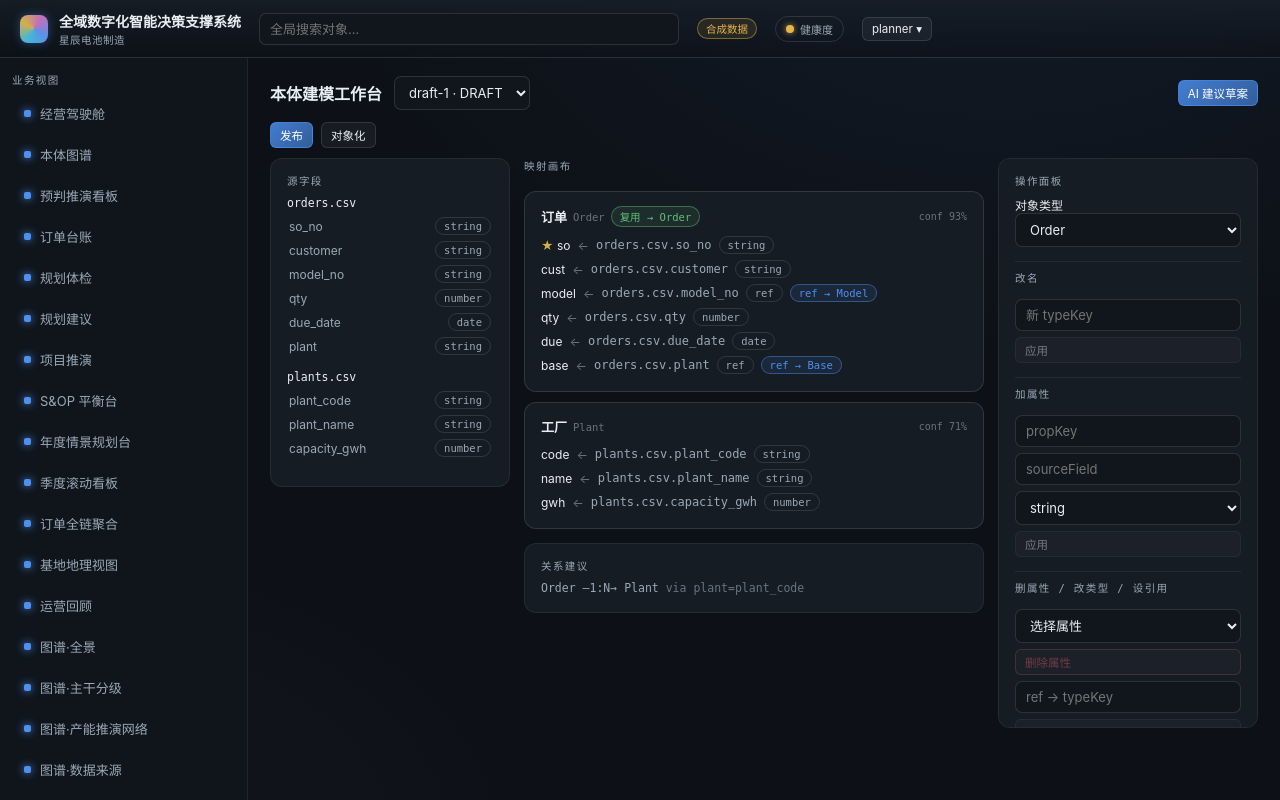
Test: F10 · 建模工作台 › PATCH 乐观更新与失败回滚；发布校验错误定位到卡片
Check: the element with test id "type-card-Order" is shown, box [524,191,984,392]
Check: the text with test id "map-existing-badge" shows "复用", box [620,211,641,223]
// 失败回滚：改名为 FAIL → 422 → 卡片标题恢复原 typeKey
Type "FAIL" into the field labelled "新 typeKey" at (1128, 315), box [1015,299,1241,331]
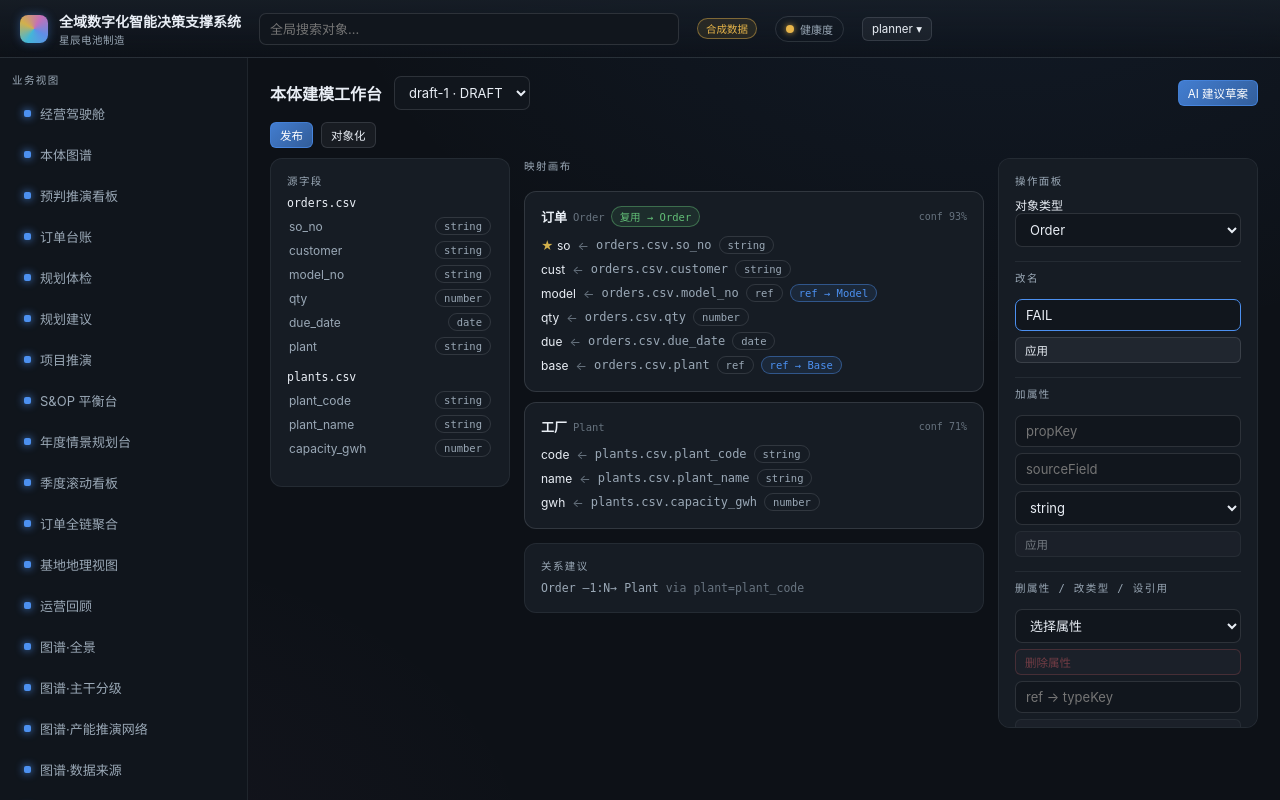
Click the button with test id "op-rename" at (1128, 350), box [1015,337,1241,363]
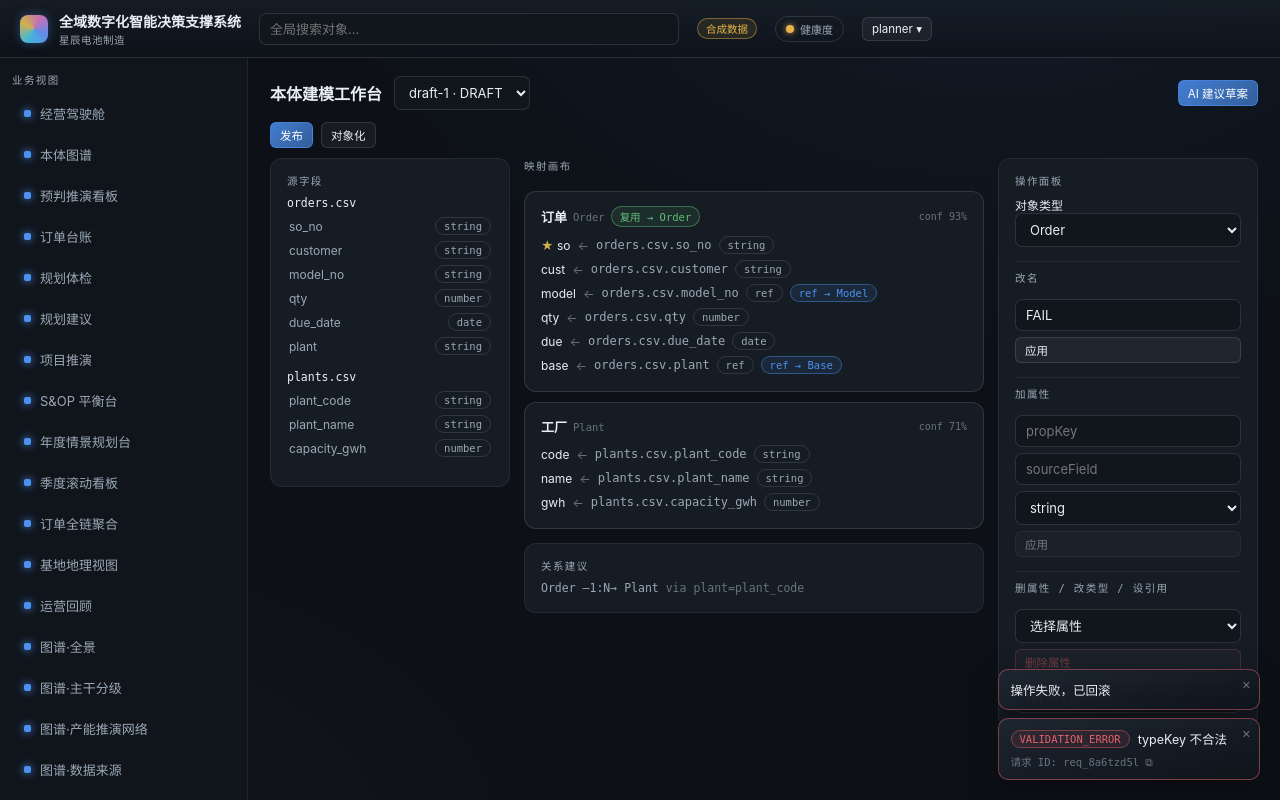
Check: the element with test id "type-card-Order" is shown, box [524,191,984,392]
Check: the text "操作失败，已回滚" is shown, box [1010,680,1110,699]
// 乐观更新成功路径：加属性立即出现在卡片上
Type "priority" into the field with placeholder "propKey" at (1128, 431), box [1015,415,1241,447]
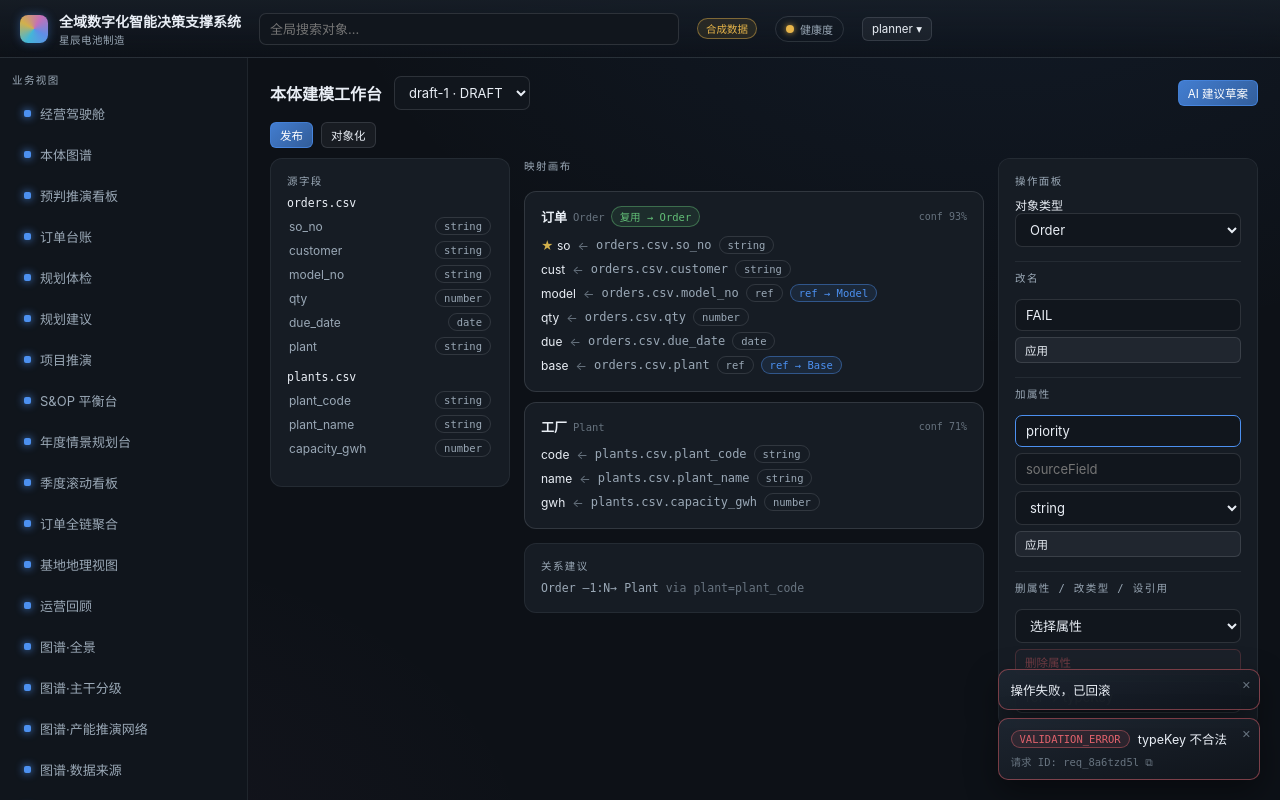
Type "prio" into the field named "新属性 sourceField" at (1128, 469), box [1015,453,1241,485]
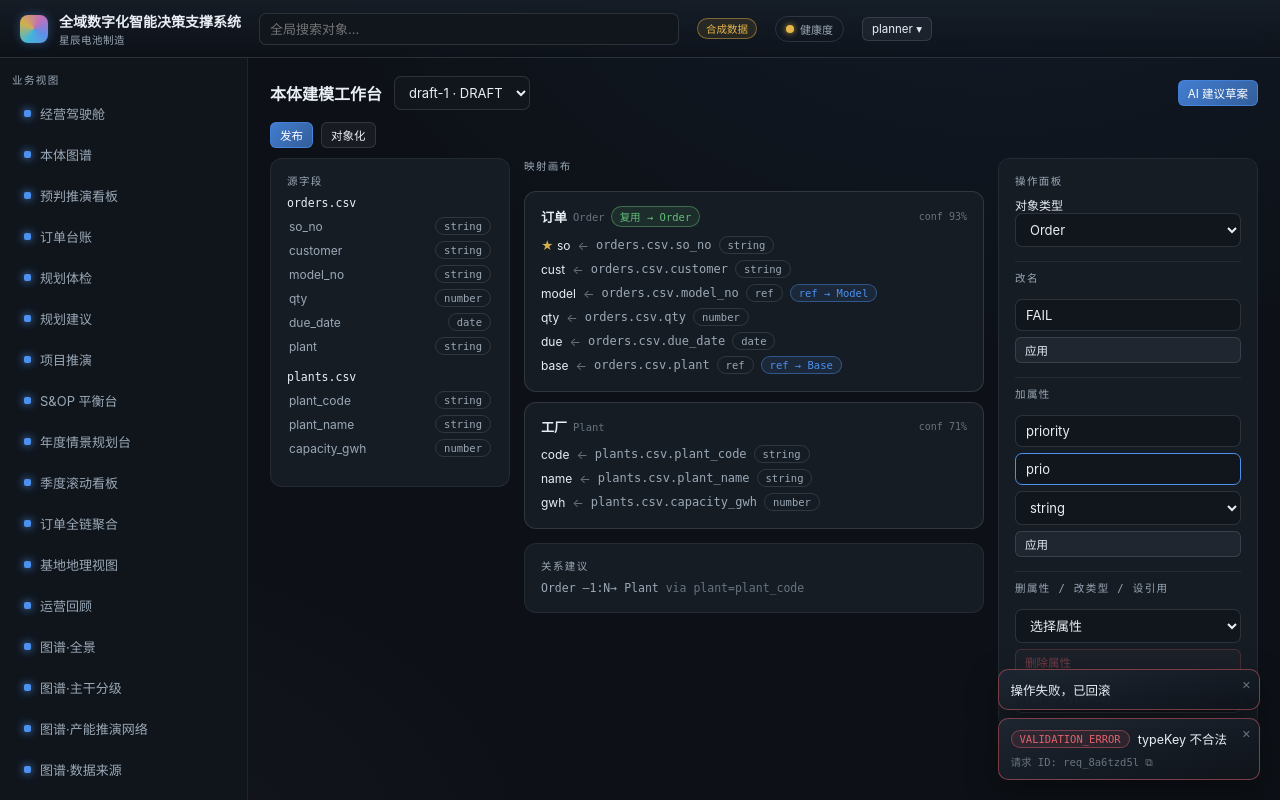
Click the button with test id "op-add-prop" at (1128, 544), box [1015,531,1241,557]
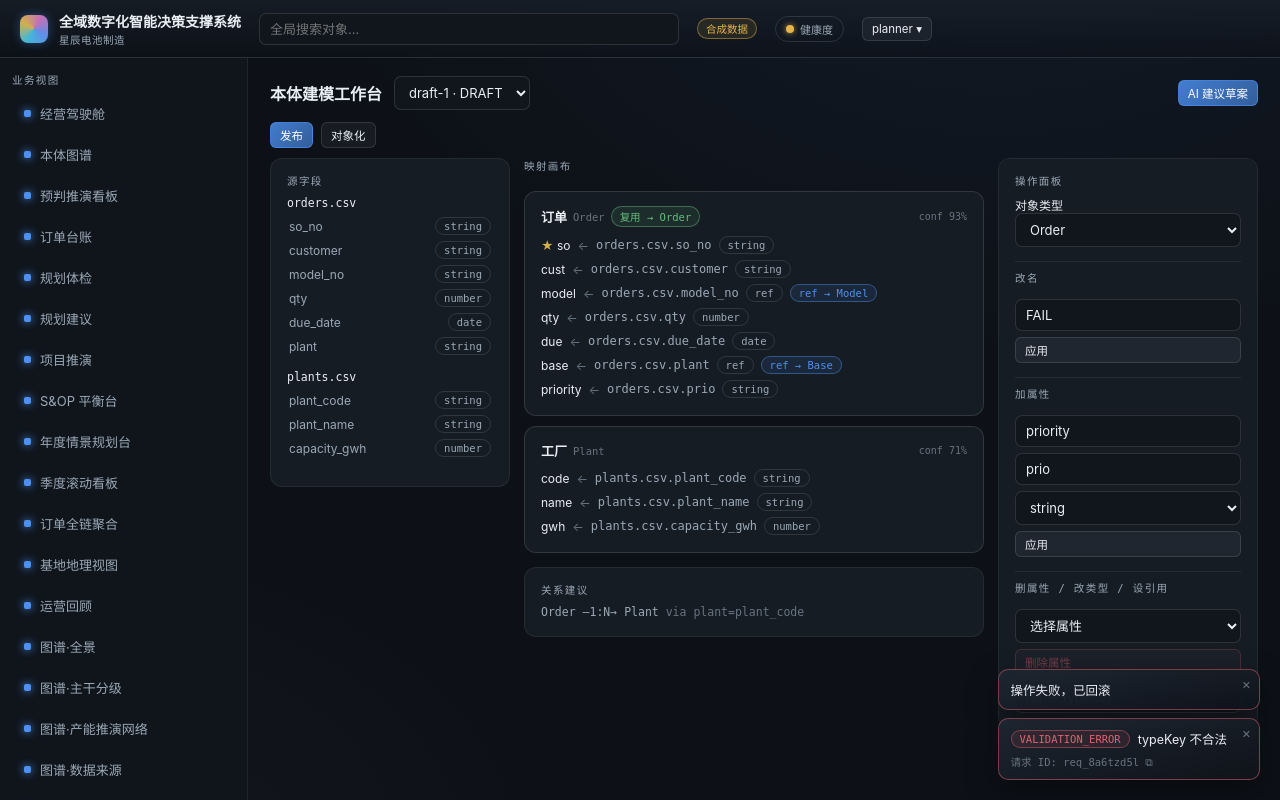
Check: the element with test id "prop-Order-priority" is shown, box [541,380,778,398]
// 发布校验：Plant 缺主键 → 错误内联定位到 Plant 卡
Click the button with test id "publish-draft" at (292, 135), box [270,122,313,148]
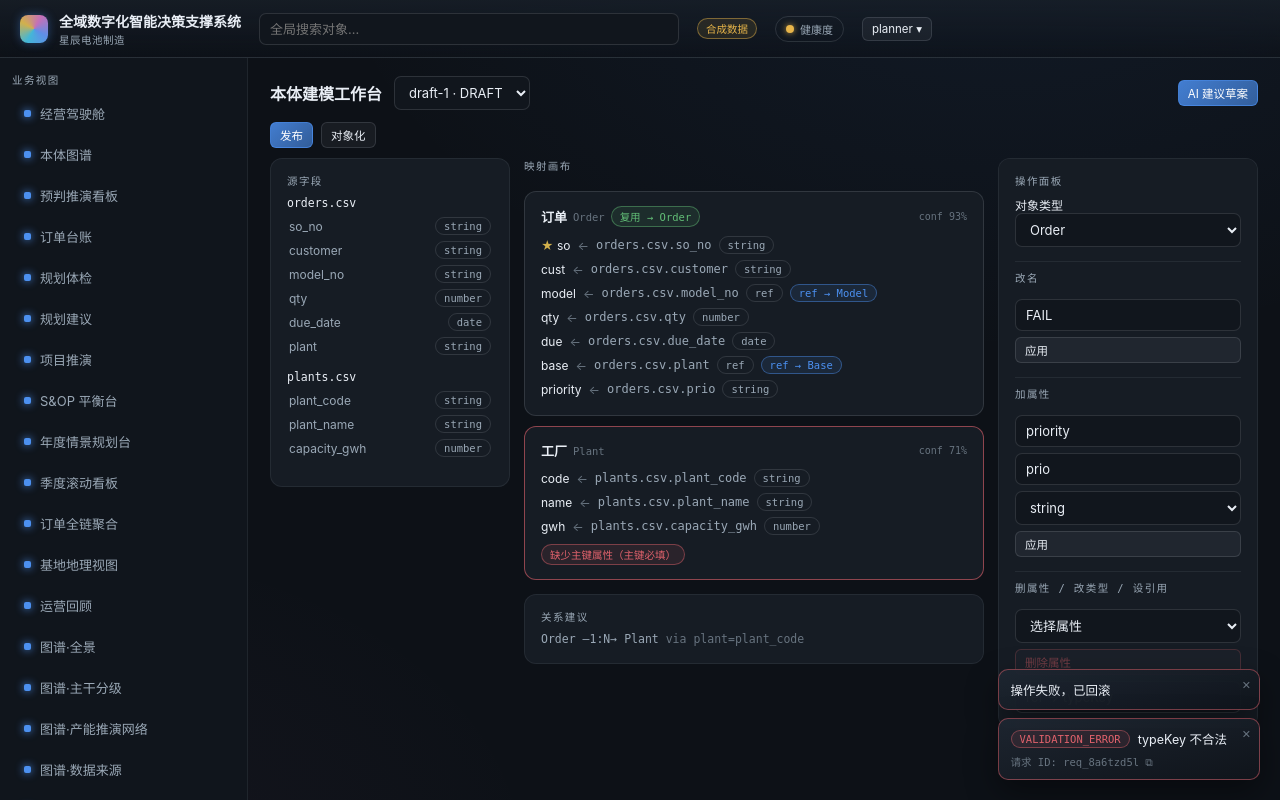
Check: the text with test id "publish-error-Plant" shows "缺少主键", box [550,549,676,561]
Check: the text "缺少主键属性（主键必填）" is shown, box [541,544,685,565]
